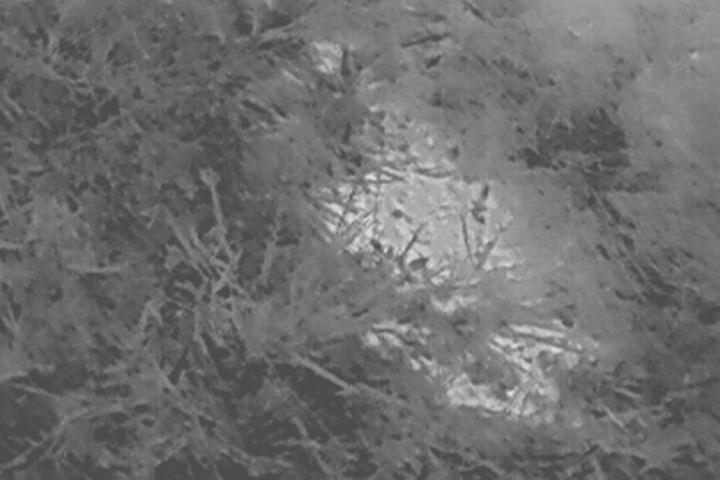landmine: (340, 162, 506, 278)
